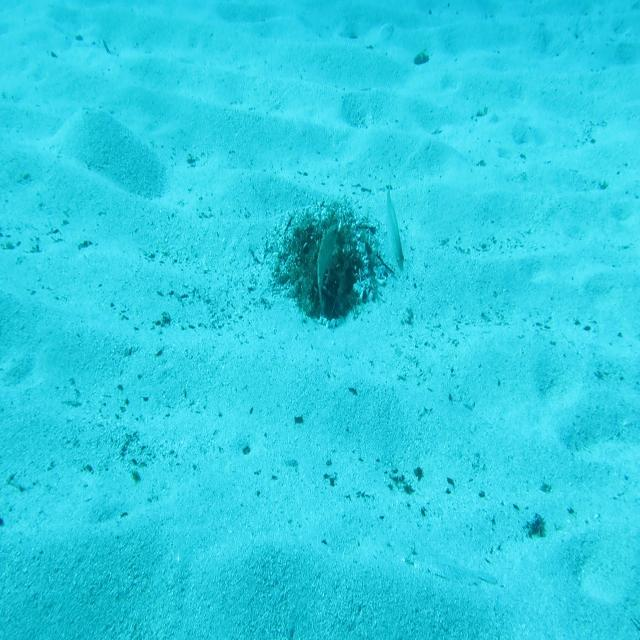LF: (315, 221, 343, 317)
female: (383, 189, 406, 287)
nest: (261, 213, 392, 334)
